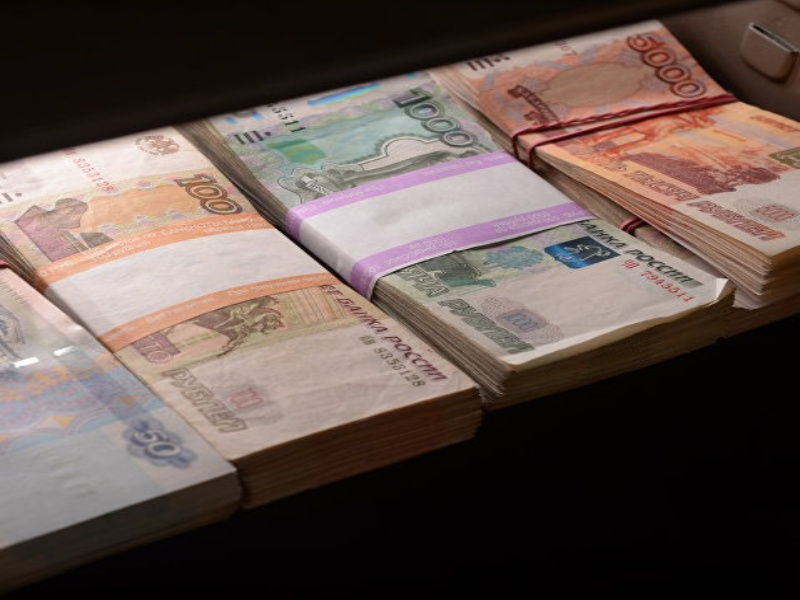cash: (1, 122, 482, 508), (178, 76, 736, 406), (431, 19, 800, 306), (1, 258, 240, 576)
